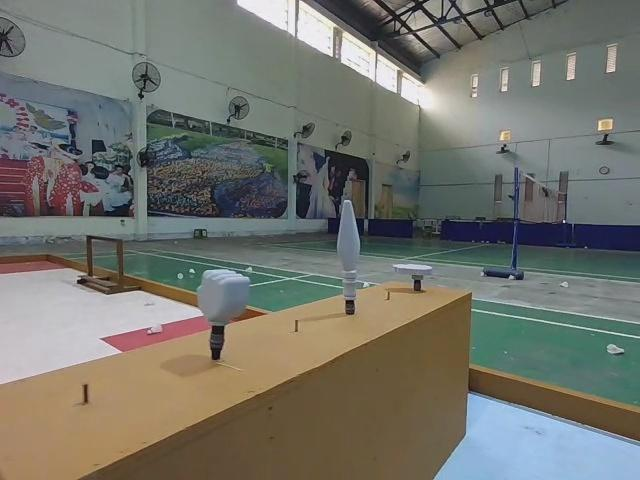Fist: (196, 268, 250, 364)
Hand: (394, 260, 434, 291)
Sph: (335, 201, 363, 318)
